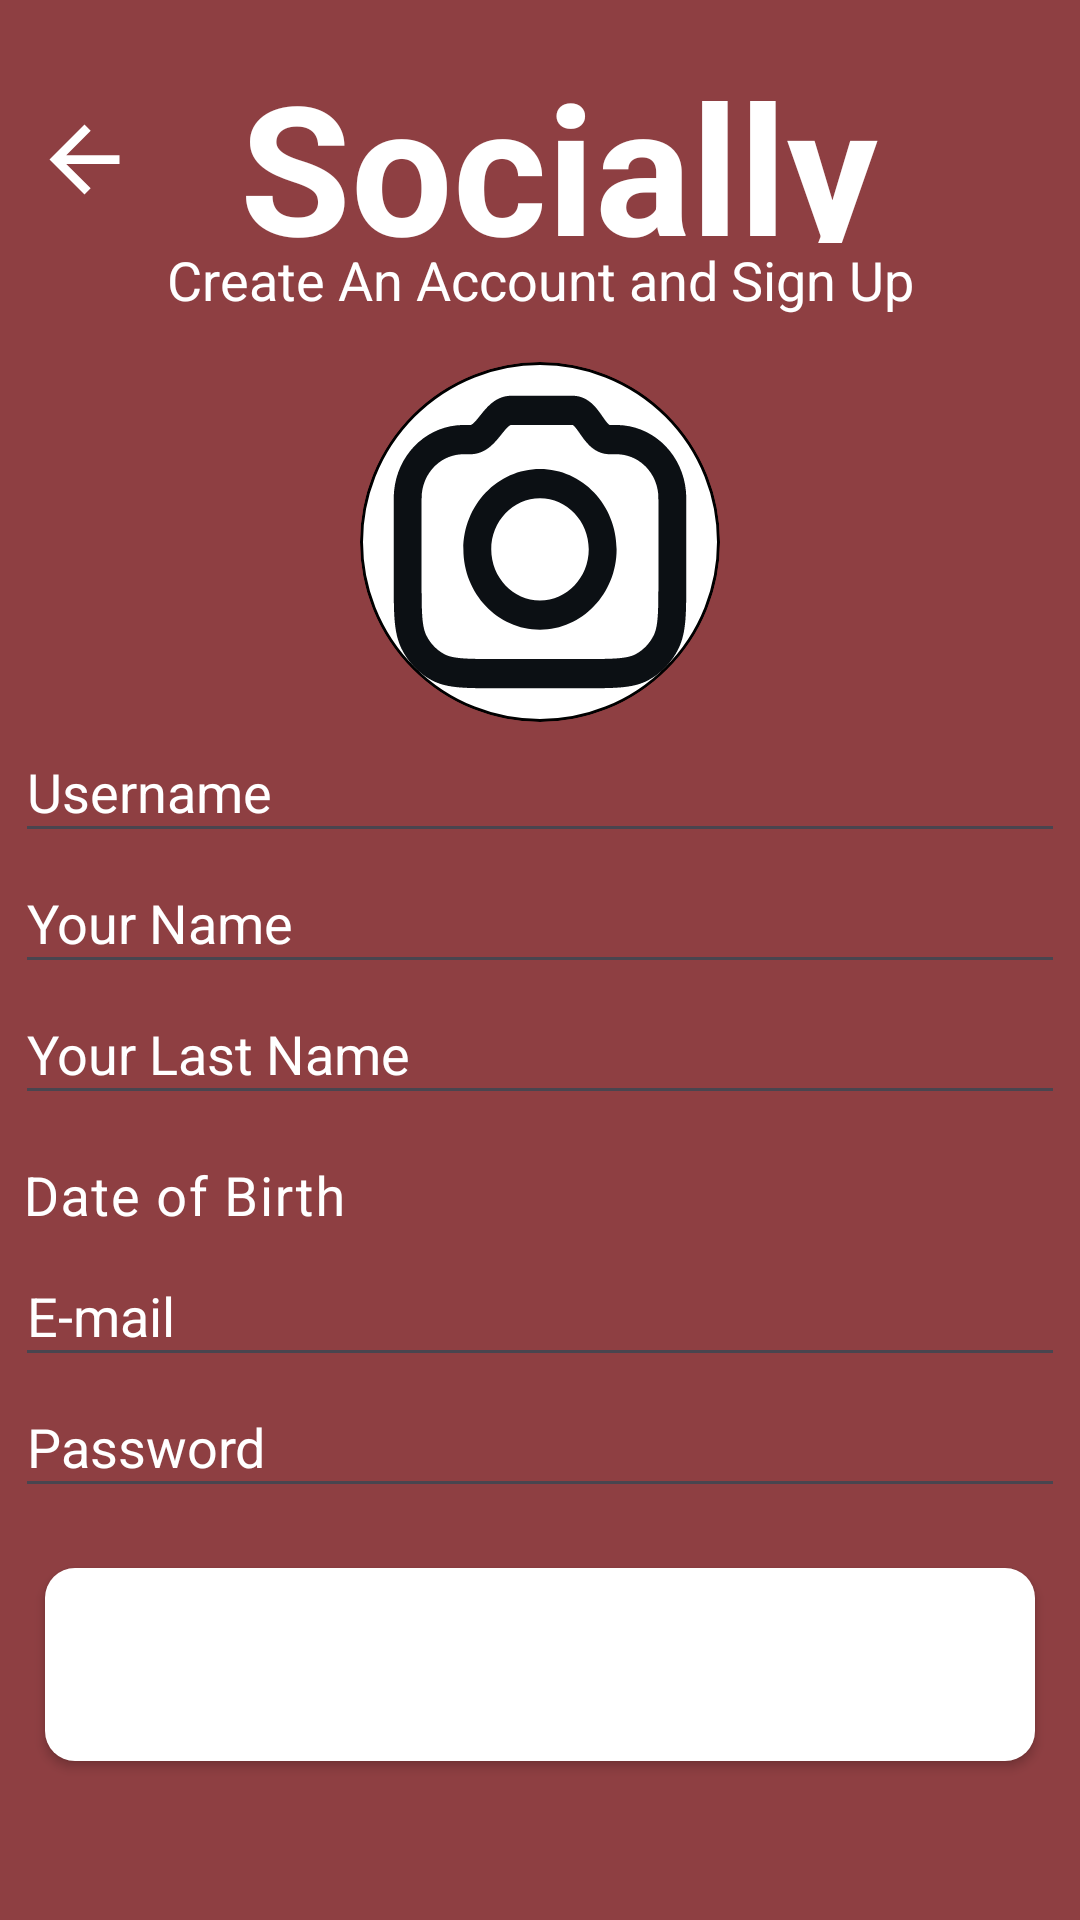

Icon click points for this 1080 × 1920 phone screenshot, format (x,y):
camera: (540,542)
